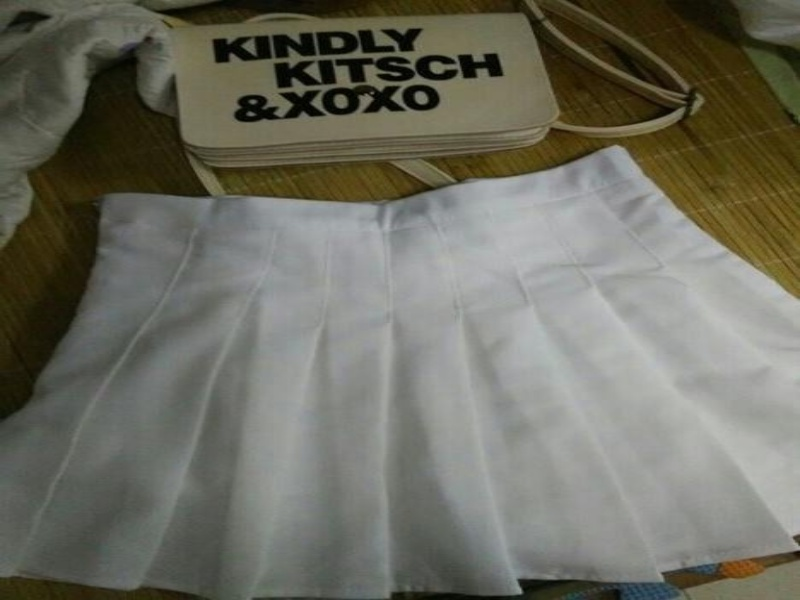skirt: (0, 147, 798, 599)
